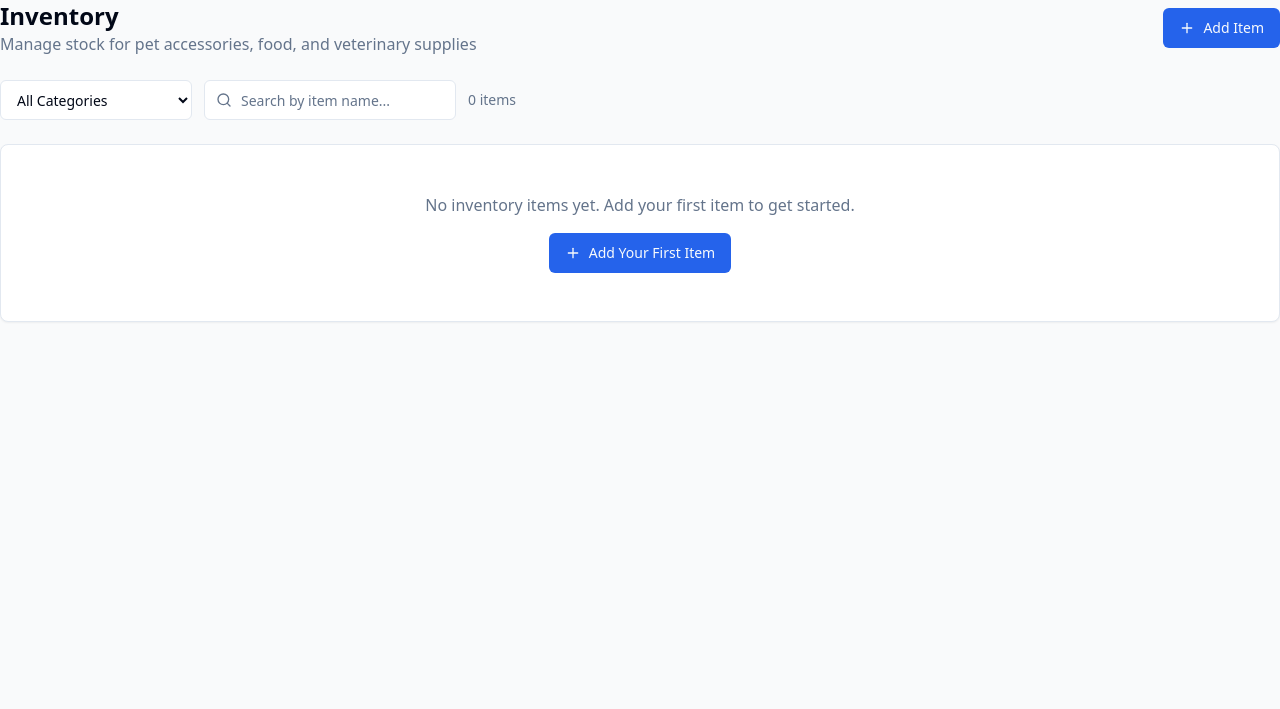
Test: InventoryPage › opens the add form when "Add Item" is clicked
Check: the text "No inventory items yet. Add your first item to get started." is shown, box [425,194,855,216]
Click the button "Add Item".
click(1222, 28)  # box [1163,8,1279,48]
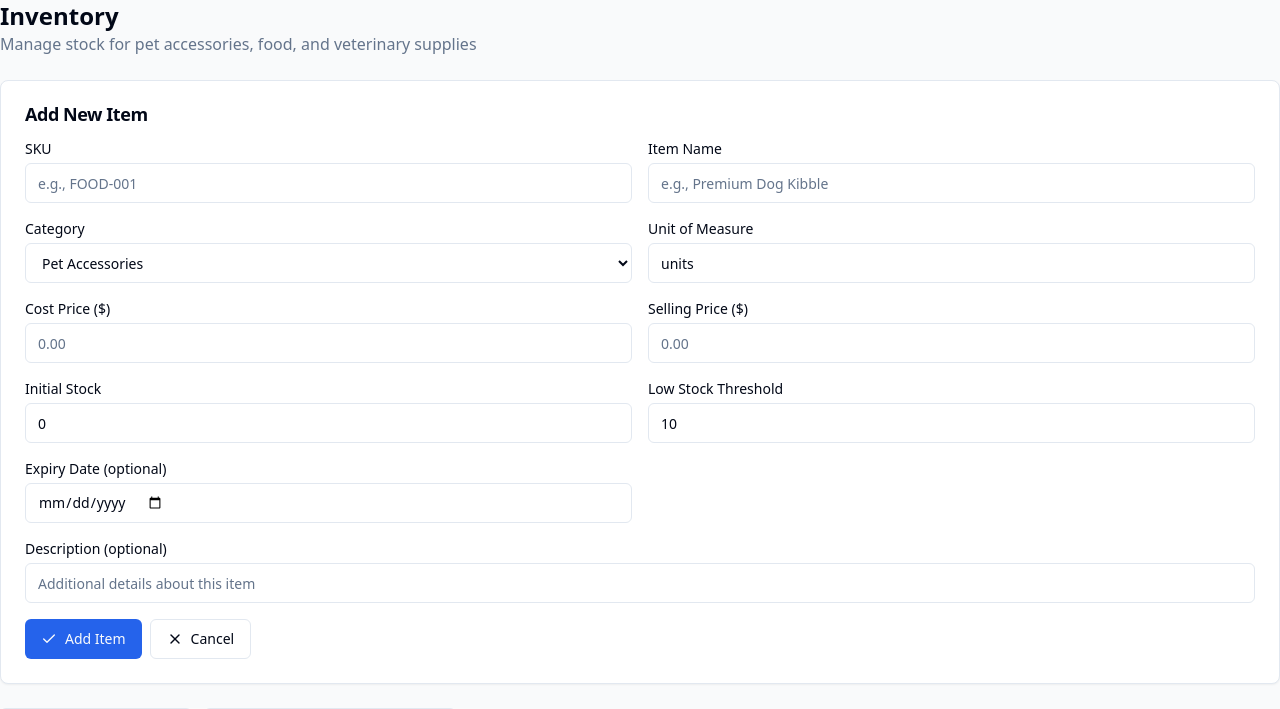
Check: the heading "Add New Item" is shown, box [25,102,148,126]
